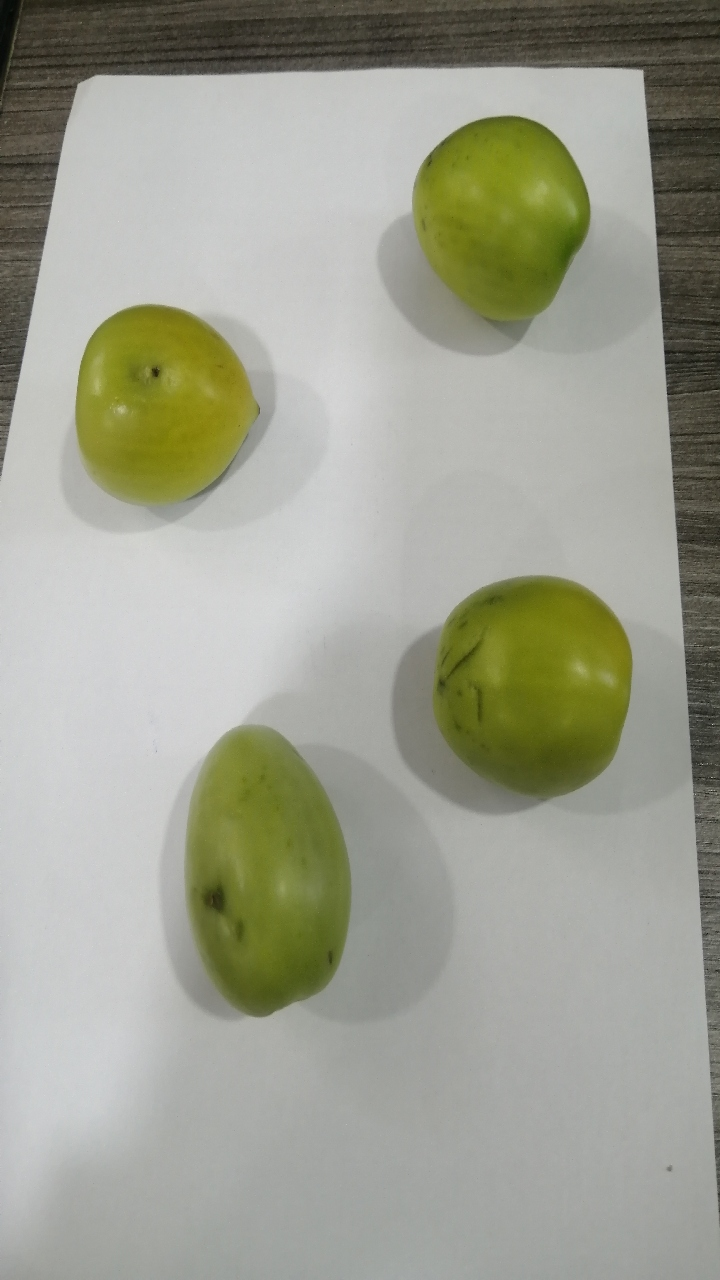tomateVerde: (403, 551, 651, 811), (164, 717, 361, 1032), (391, 97, 603, 352), (66, 288, 288, 515)
